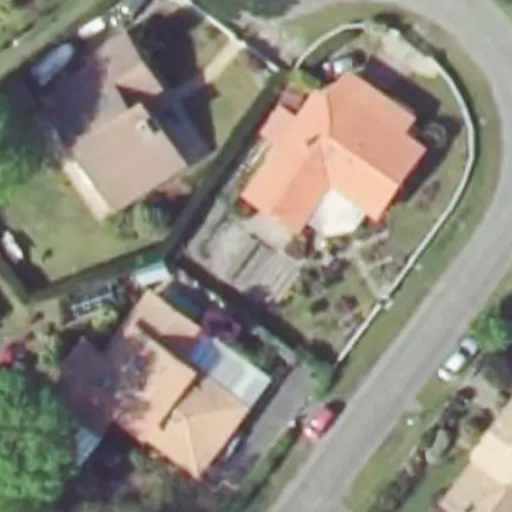pool: (216, 229, 288, 260)
